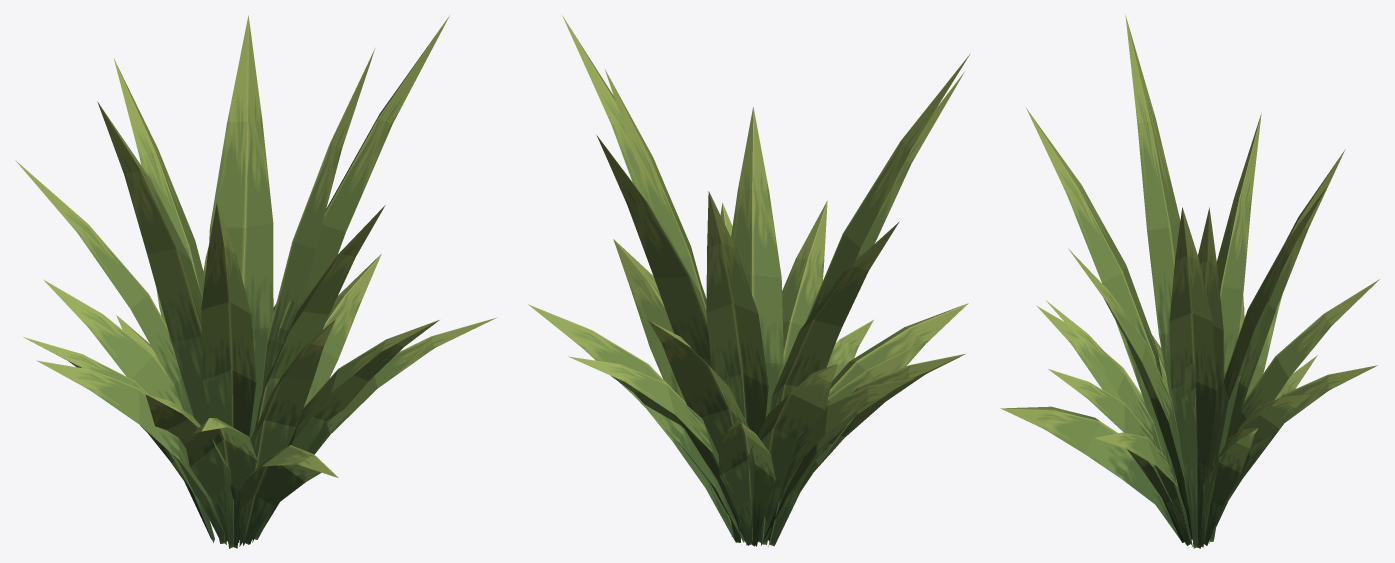
File: grass_tuft.glb
The picture shows the model from 3 angles, left to right: view 1: azimuth 30°, elevation 25°; view 2: azimuth 150°, elevation 25°; view 3: azimuth 270°, elevation 25°; orthographic projection. The views are drawn at different scales.
Visible parts, largest first — view 1: grass_tuft_blade_clumps; view 2: grass_tuft_blade_clumps; view 3: grass_tuft_blade_clumps.
Boxes of the visible parts, x1,y1,x2,y2 form: grass_tuft_blade_clumps: (15, 15, 496, 548); grass_tuft_blade_clumps: (528, 15, 970, 546); grass_tuft_blade_clumps: (1000, 14, 1379, 548).
Bounding box in the file's own units: 0.55 × 0.65 × 0.5.
Materials: 1 (1 with a texture image).
